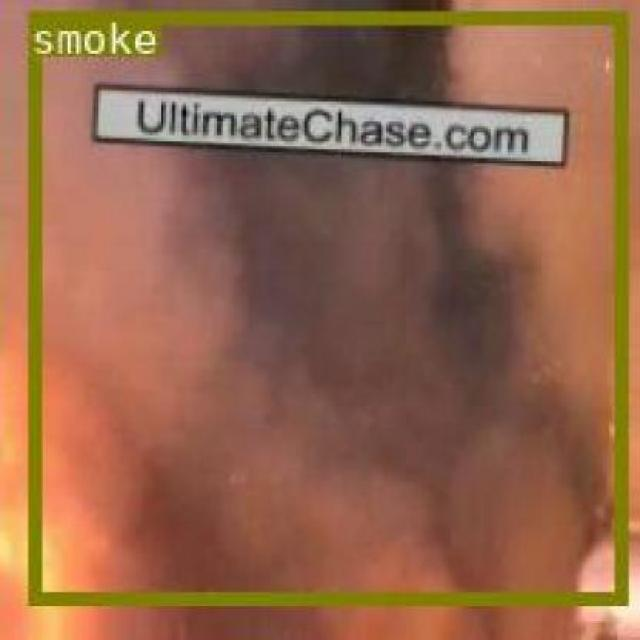Smoke: (26, 9, 623, 603)
